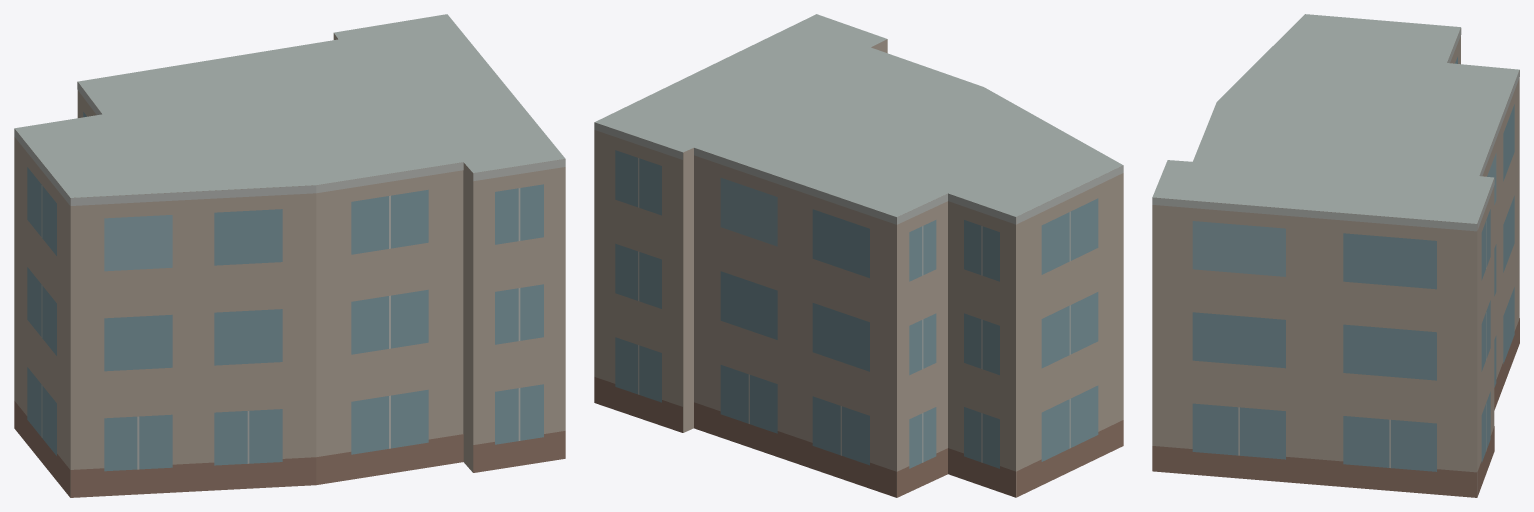
Rendered from survey-upis-32690121.glb.
3 views of the same model, side by side, from view 1: azimuth 30°, elevation 25°; view 2: azimuth 150°, elevation 25°; view 3: azimuth 270°, elevation 25° (orthographic). The views are drawn at different scales.
Parts seen in each view (by area): view 1: survey-upis-32690121.tmp; view 2: survey-upis-32690121.tmp; view 3: survey-upis-32690121.tmp.
Part boxes in pixels (left/top/right/bottom): survey-upis-32690121.tmp: left=14, top=14, right=565, bottom=497; survey-upis-32690121.tmp: left=594, top=14, right=1123, bottom=497; survey-upis-32690121.tmp: left=1152, top=14, right=1519, bottom=497.
Bounding box in the file's own units: 14.81 × 9 × 10.95.
